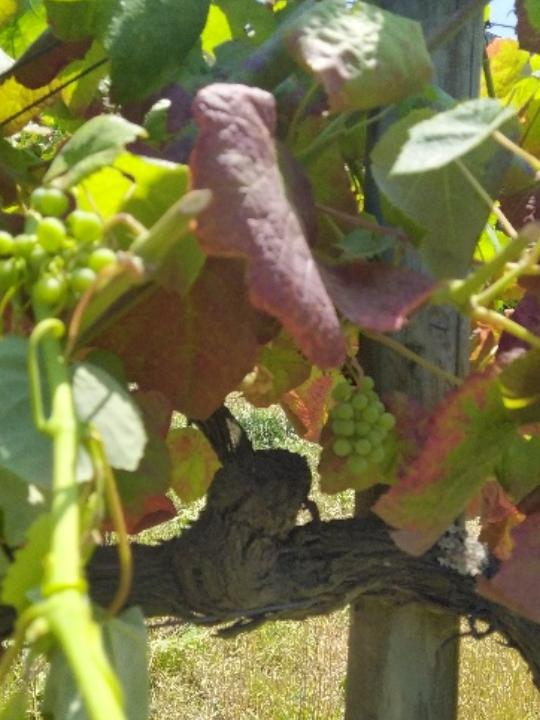grape: (0, 185, 116, 323), (319, 372, 397, 482)
